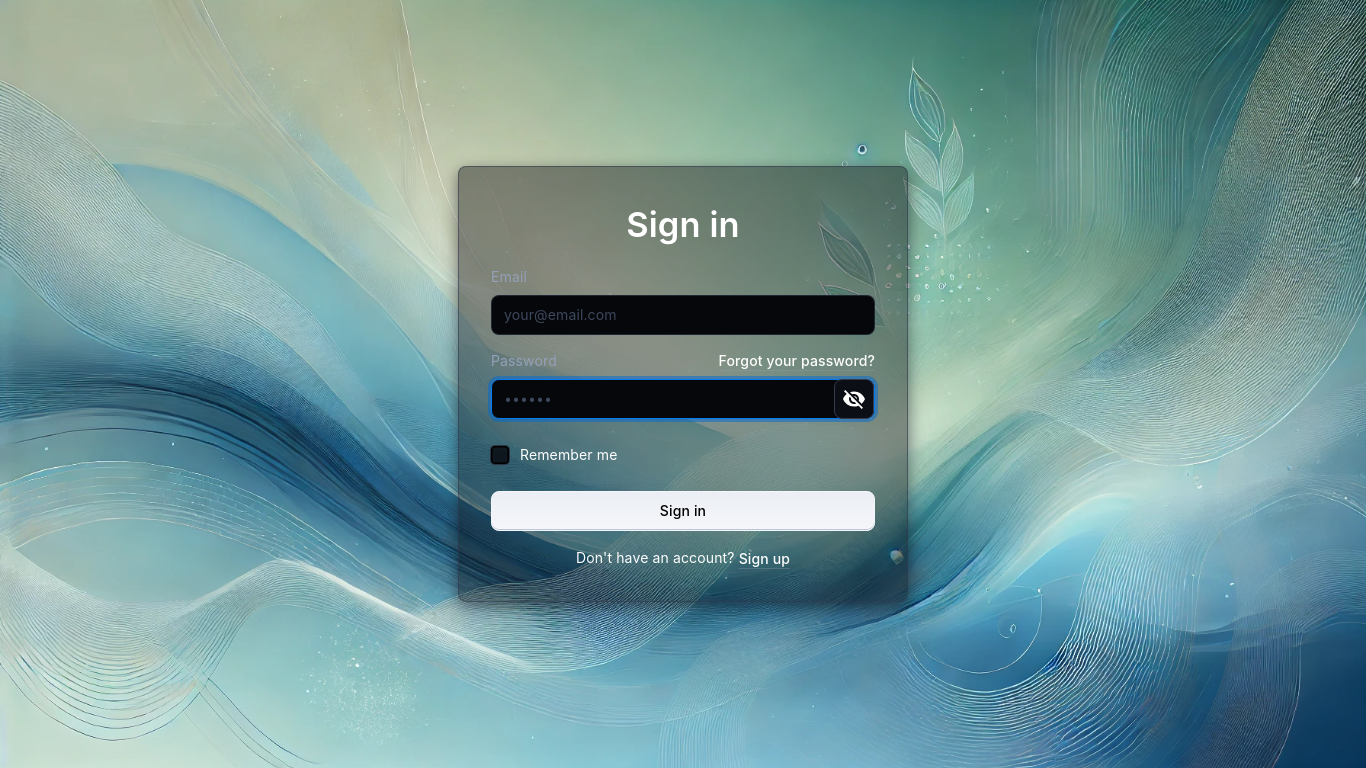
Test case: SignIn Component › closes Forgot Password modal on handleClose
This screenshot has width=1366, height=768.
# Open modal first
Click the button "Forgot your password?" at point(797, 361), box [719, 351, 875, 371]
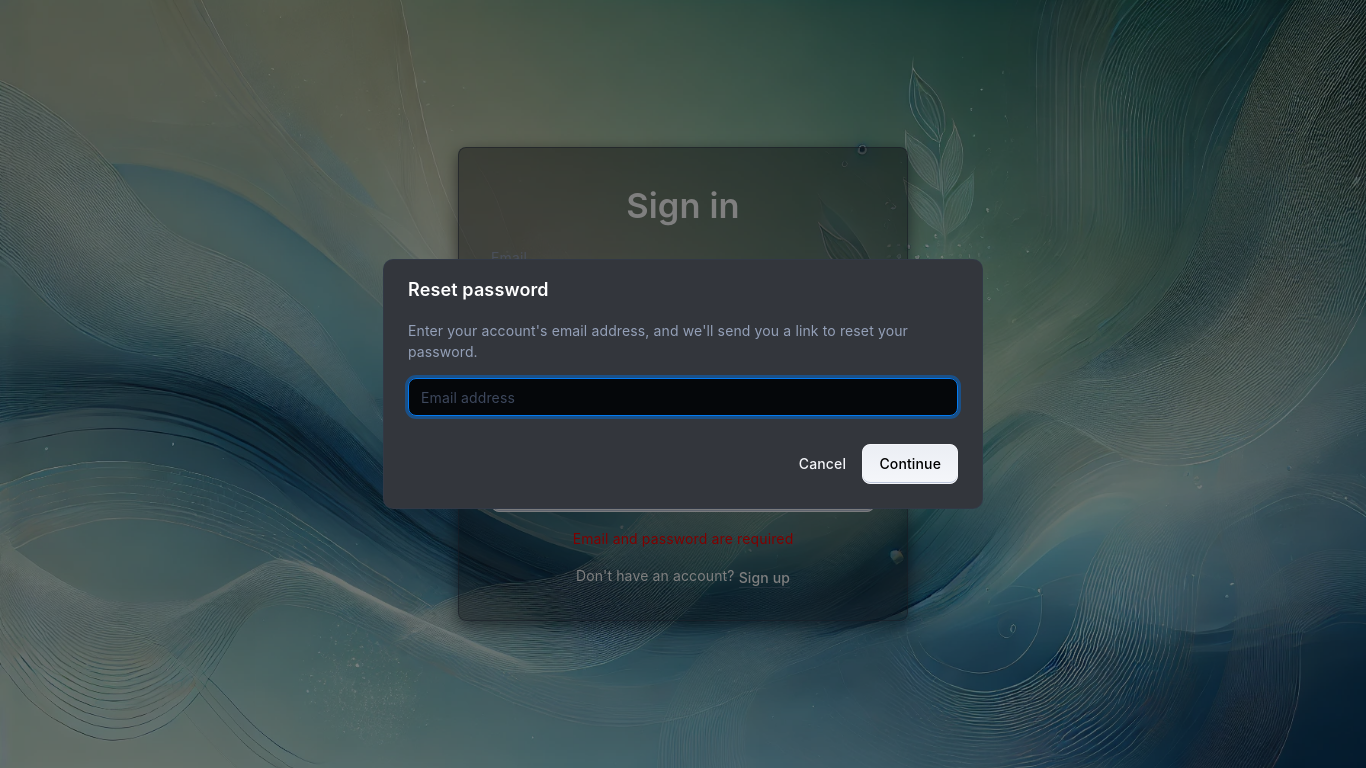
# Close modal
Click the button "Cancel" at point(822, 464), box [790, 444, 854, 484]
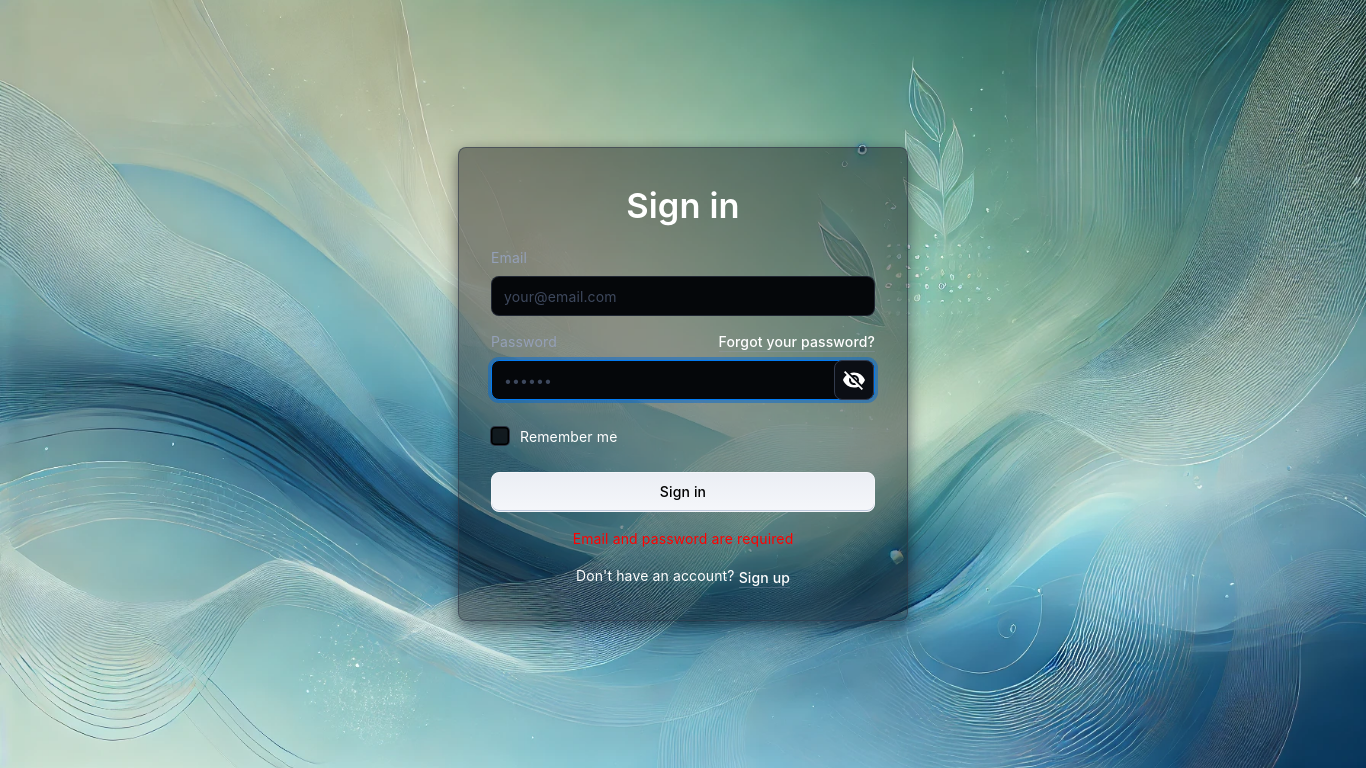
Check: the heading "Reset password" is gone
